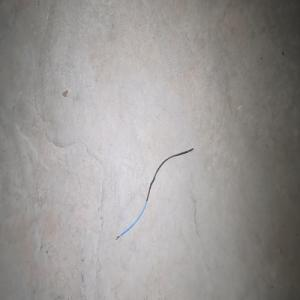Wire: (115, 147, 193, 240)
